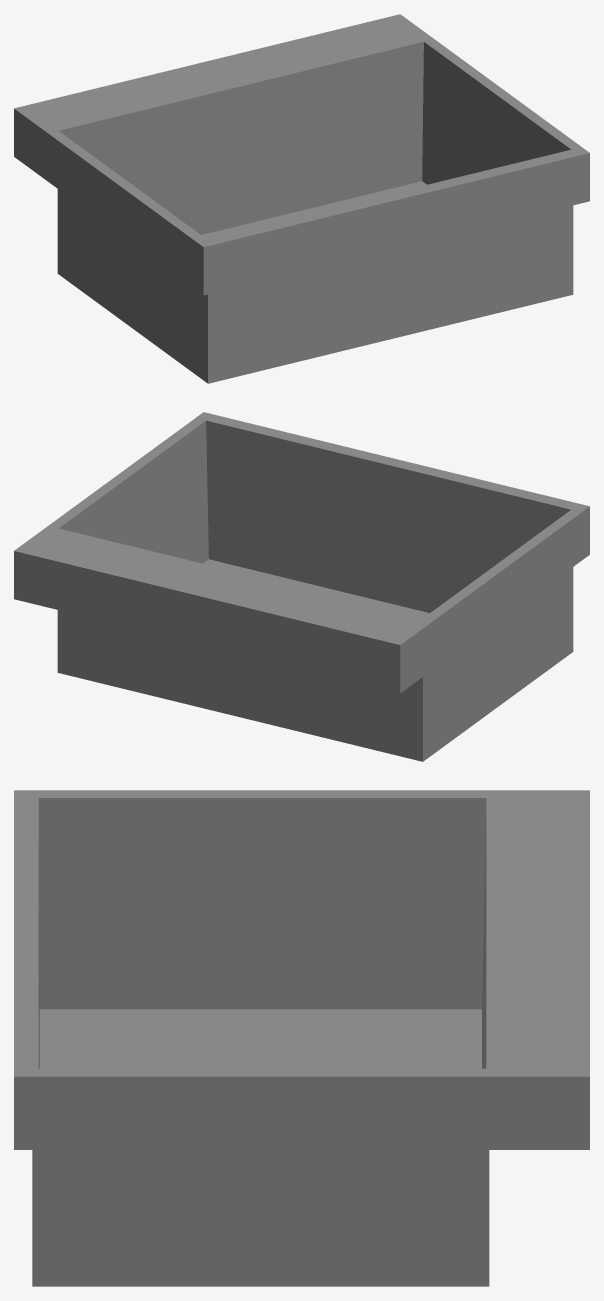
The model's file is Sink1_C2.fbx.
3 renders of one model, top to bottom at view 1: azimuth 30°, elevation 25°; view 2: azimuth 150°, elevation 25°; view 3: azimuth 270°, elevation 25°, orthographic. The views are drawn at different scales.
Visible parts, largest first — view 1: Sink1_C2; view 2: Sink1_C2; view 3: Sink1_C2.
Boxes of the visible parts, x1=… form: Sink1_C2: x1=14, y1=14, x2=589, y2=383; Sink1_C2: x1=14, y1=412, x2=589, y2=761; Sink1_C2: x1=14, y1=790, x2=589, y2=1286.
Bounding box in the file's own units: 55 × 19.54 × 46.77.
